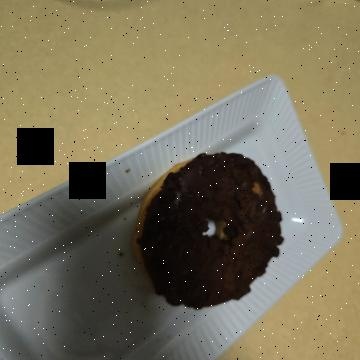doughnut: (130, 74, 322, 253)
